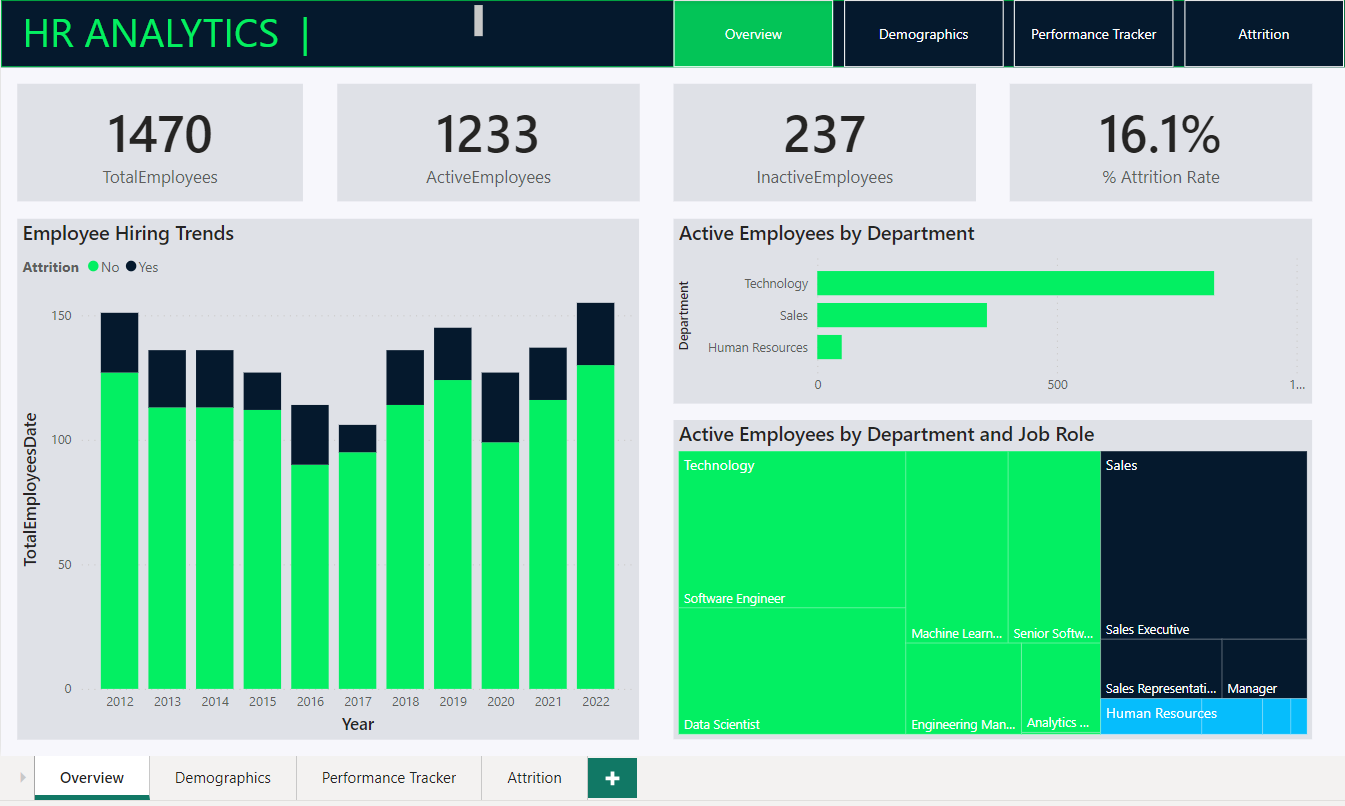

The dashboard page shown, as its layout file describes it:
{"tool":"powerbi","page":{"name":"Overview","canvas":[1280,720],"ordinal":0},"visuals":[{"type":"card","fields":{"Values":["_Measures.TotalEmployees"]},"box":[16,80,272,112],"z":0},{"type":"card","fields":{"Values":["_Measures.ActiveEmployees"]},"box":[320,80,288,112],"z":1000},{"type":"card","fields":{"Values":["_Measures.InactiveEmployees"]},"box":[640,80,288,112],"z":2000},{"type":"card","fields":{"Values":["_Measures.% Attrition Rate"]},"box":[960,80,288,112],"z":3000},{"type":"columnChart","title":"Employee Hiring Trends","fields":{"Category":["DimDate.Date.Variation.Date Hierarchy.Year","DimDate.Date.Variation.Date Hierarchy.Quarter","DimDate.Date.Variation.Date Hierarchy.Month","DimDate.Date.Variation.Date Hierarchy.Day"],"Y":["_Measures.TotalEmployeesDate"],"Series":["DimEmployee.Attrition"]},"box":[16,208,592,496],"z":4000},{"type":"clusteredBarChart","title":"Active Employees by Department","fields":{"Category":["DimEmployee.Department"],"Y":["_Measures.ActiveEmployees"]},"box":[640,208,608,176],"z":5000},{"type":"treemap","title":"Active Employees by Department and Job Role","fields":{"Values":["_Measures.ActiveEmployees"],"Group":["DimEmployee.Department"],"Details":["DimEmployee.JobRole"]},"box":[640,400,608,304],"z":6000},{"type":"shape","box":[0,0,1280,64],"z":7000},{"type":"textbox","box":[16,0,448,64],"z":8000},{"type":"pageNavigator","box":[640,0,640,64],"z":9000}]}

Visuals, with their boxes on the page's 1280x720 design canvas (x1, y1, x2, y2). These are canvas units, not pixel positions in the 1345x806 screenshot, which may show the page scaled, cropped or inside an application window:
card - _Measures.TotalEmployees: bbox=(16, 80, 288, 192)
card - _Measures.ActiveEmployees: bbox=(320, 80, 608, 192)
card - _Measures.InactiveEmployees: bbox=(640, 80, 928, 192)
card - _Measures.% Attrition Rate: bbox=(960, 80, 1248, 192)
"Employee Hiring Trends" columnChart: bbox=(16, 208, 608, 704)
"Active Employees by Department" clusteredBarChart: bbox=(640, 208, 1248, 384)
"Active Employees by Department and Job Role" treemap: bbox=(640, 400, 1248, 704)
shape: bbox=(0, 0, 1280, 64)
textbox: bbox=(16, 0, 464, 64)
pageNavigator: bbox=(640, 0, 1280, 64)
